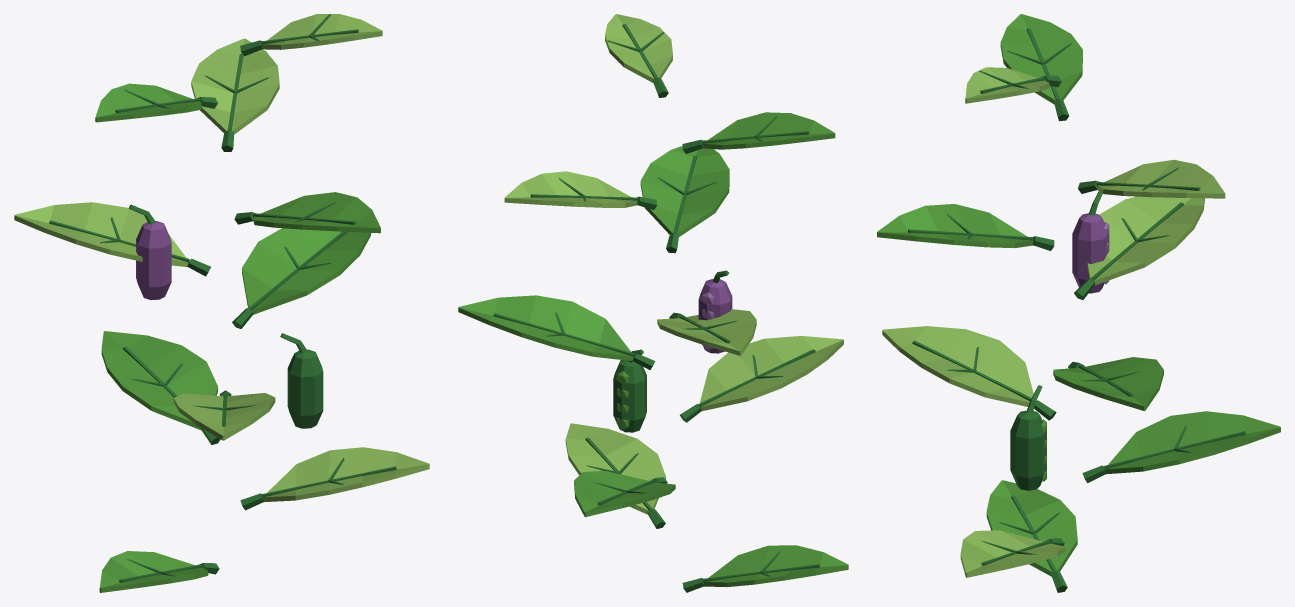
Rendered from Decor_Beanstalk_Leaves.fbx.
3 renders of one model, left to right at view 1: azimuth 30°, elevation 25°; view 2: azimuth 150°, elevation 25°; view 3: azimuth 270°, elevation 25°, orthographic. The views are drawn at different scales.
Visible parts, largest first — view 1: Leaves_Body; view 2: Leaves_Body; view 3: Leaves_Body.
Boxes of the visible parts, x1=… form: Leaves_Body: x1=14, y1=14, x2=429, y2=592; Leaves_Body: x1=458, y1=14, x2=848, y2=592; Leaves_Body: x1=877, y1=14, x2=1280, y2=592.
Size of the model in its own units: 37.2 by 56.8 by 37.39.
